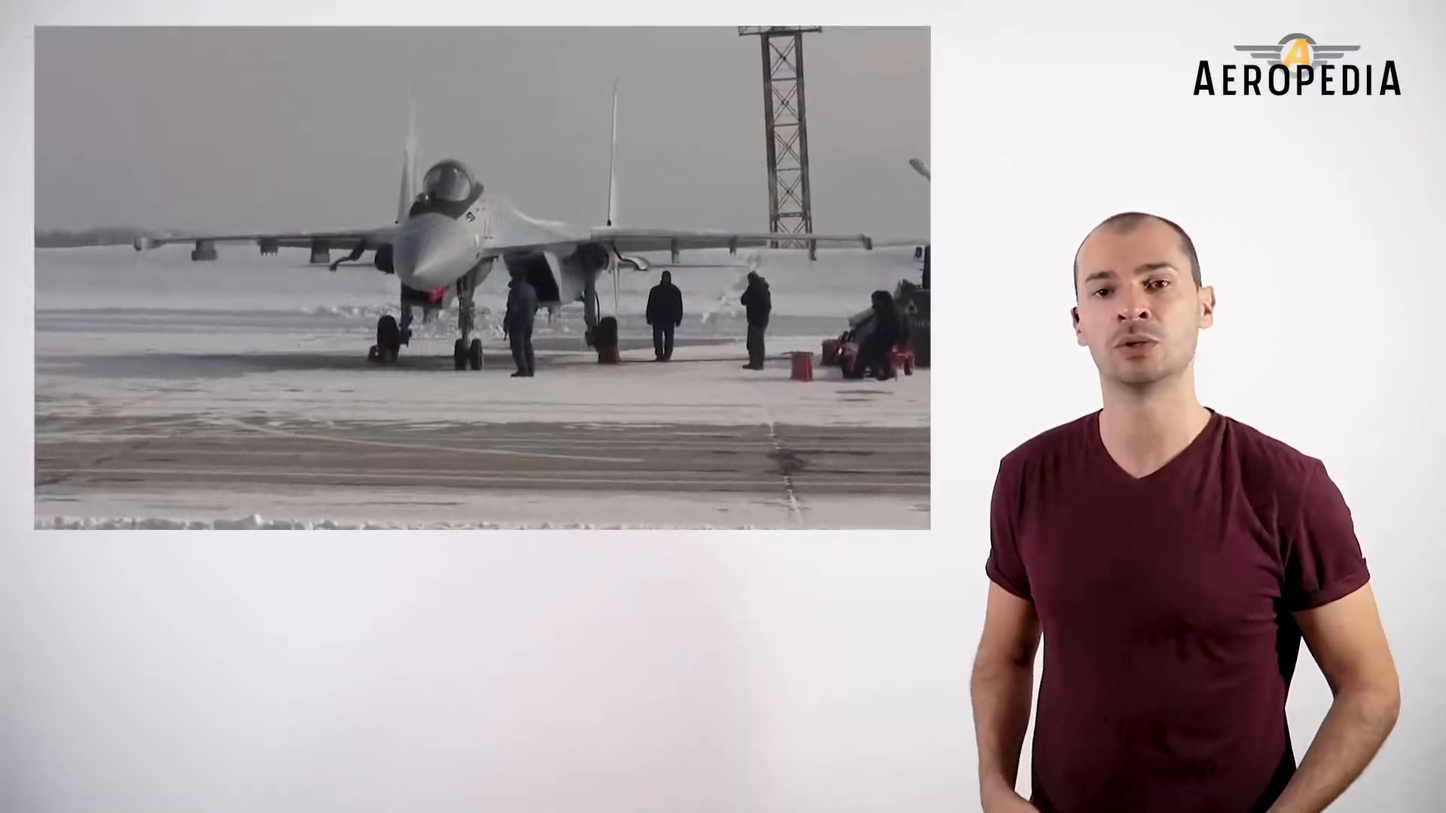Su35: (132, 77, 874, 371)
